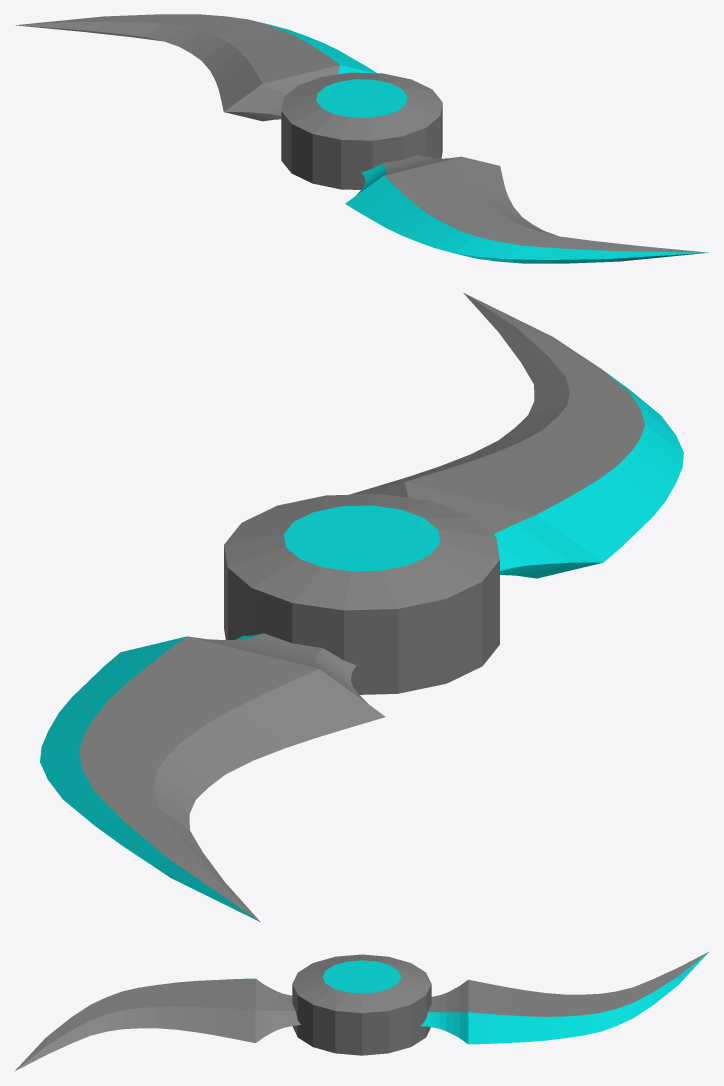
The model's file is Beyblade_Basic_Blade_Ice.fbx.
3 renders of one model, top to bottom at view 1: azimuth 30°, elevation 25°; view 2: azimuth 150°, elevation 25°; view 3: azimuth 270°, elevation 25°, orthographic. The views are drawn at different scales.
Visible parts, largest first — view 1: Circle.001; view 2: Circle.001; view 3: Circle.001.
Boxes of the visible parts, left/top/right/bottom form: Circle.001: left=15, top=14, right=708, bottom=263; Circle.001: left=40, top=293, right=683, bottom=921; Circle.001: left=14, top=951, right=709, bottom=1071.
Size of the model in its own units: 162 by 35.77 by 394.
Materials: 1 (1 with a texture image).
